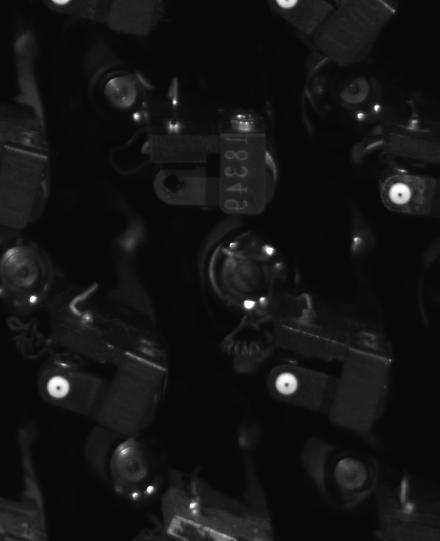fiber: (272, 370, 305, 400), (42, 375, 77, 403), (388, 180, 415, 211)
